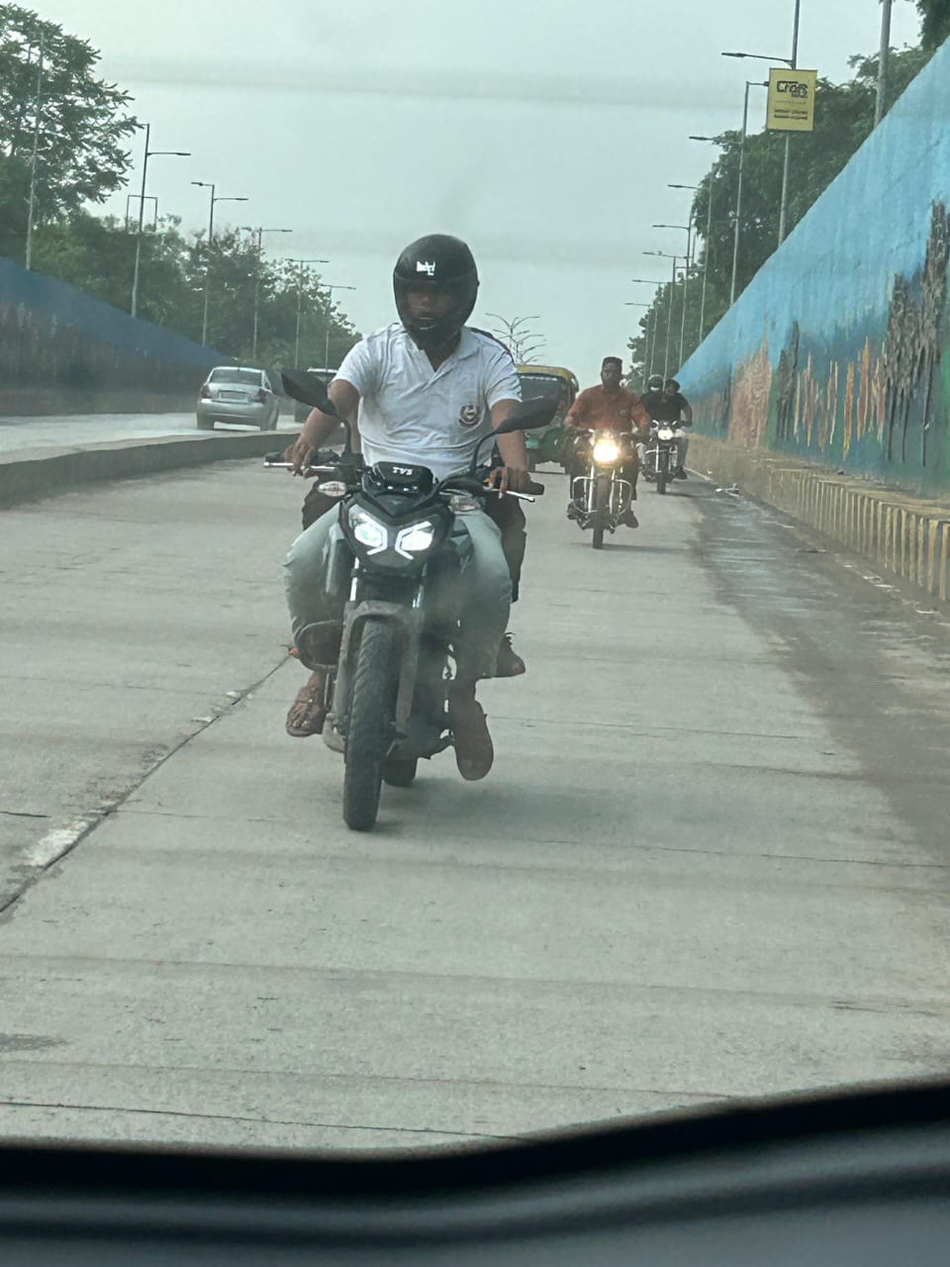BikeWithRider: (250, 222, 567, 840), (553, 347, 655, 551), (631, 366, 700, 499)
Helmet: (378, 223, 491, 353)
NoHelmet: (595, 350, 628, 390)
